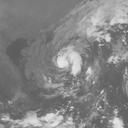cyclone: (21, 13, 119, 101)
